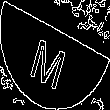M_N: (33, 23, 77, 87)
